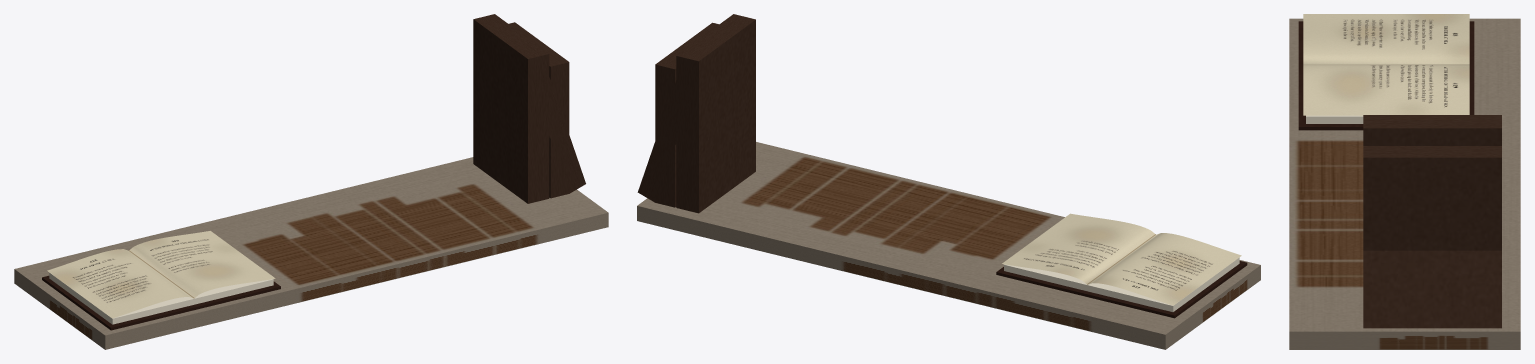
Rendered from hymnal-shelf.glb.
3 views of the same model, side by side, from view 1: azimuth 30°, elevation 25°; view 2: azimuth 150°, elevation 25°; view 3: azimuth 270°, elevation 25° (orthographic). The views are drawn at different scales.
Parts seen in each view (by area): view 1: Board, Book0, Pages, Book1, PageBlock, Cover, Book2; view 2: Board, Book0, Pages, Book1, PageBlock, Book2, Cover; view 3: Board, Pages, Book1, Book2, Book0, Cover, PageBlock.
Part boxes in pixels (x1,y1,x2,y2): Board: (14, 157, 608, 349); Book0: (473, 14, 549, 203); Pages: (47, 231, 275, 318); Book1: (509, 22, 569, 198); PageBlock: (49, 272, 273, 324); Cover: (42, 275, 280, 330); Book2: (533, 74, 585, 193); Board: (637, 142, 1260, 349); Book0: (676, 14, 755, 213); Pages: (1002, 213, 1241, 305); Book1: (655, 22, 718, 207); PageBlock: (1004, 257, 1239, 311); Book2: (637, 78, 694, 202); Cover: (996, 261, 1247, 318); Board: (1289, 18, 1520, 349); Pages: (1303, 14, 1469, 115); Book1: (1363, 146, 1501, 250); Book2: (1363, 250, 1501, 328); Book0: (1363, 115, 1501, 145); Cover: (1298, 21, 1474, 130); PageBlock: (1306, 115, 1363, 123).
Size of the model in its own units: 0.8106 by 0.242 by 0.25.
5 materials, 4 textured.
